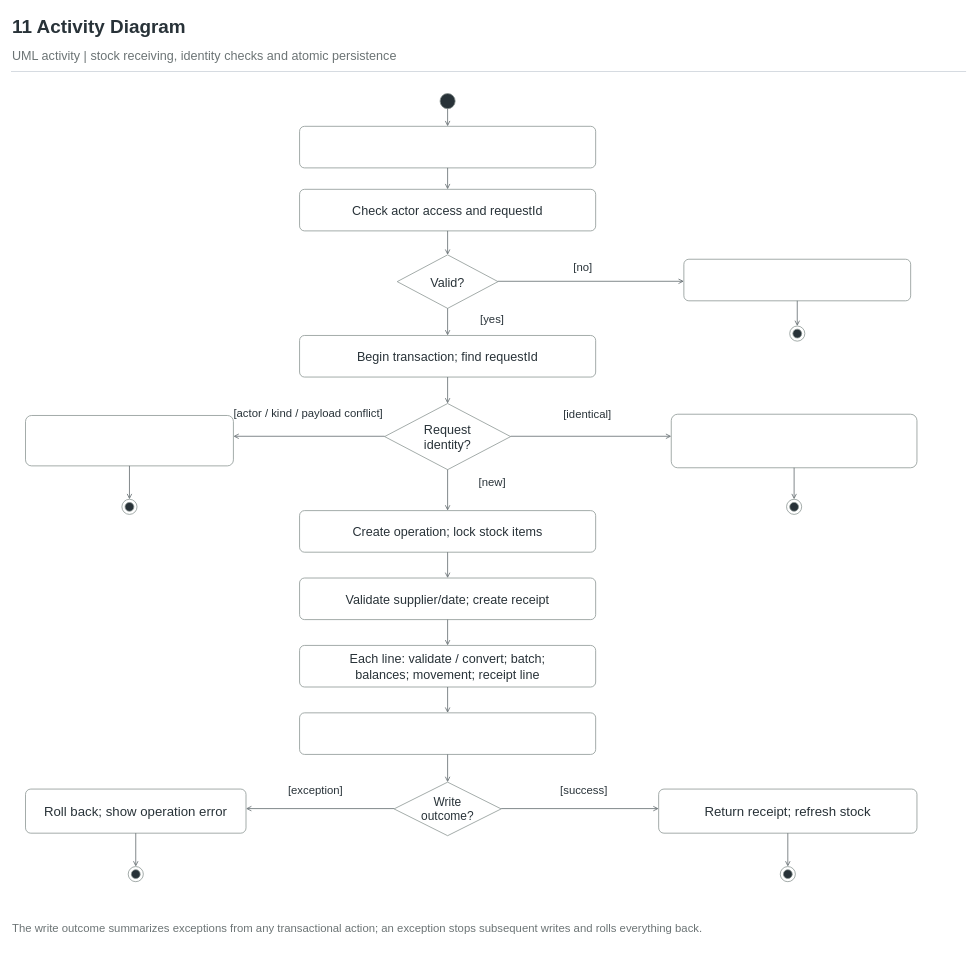
The diagram is 978 pixels wide and 954 high, and some of its shapes have lost their labels. Here are the shapes that lost their labels. From the top down, the centre of each, then its label:
point 447,147: Submit delivery + requestId
point 797,280: Return 401 / 403 / invalid ID
point 129,440: Roll back; return 409 conflict
point 794,441: Return saved result; commit read; refresh stock
point 447,733: Load receipt; save result; commit
